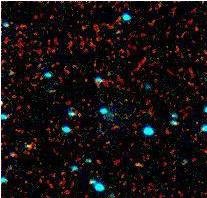star: (122, 148, 152, 178)
